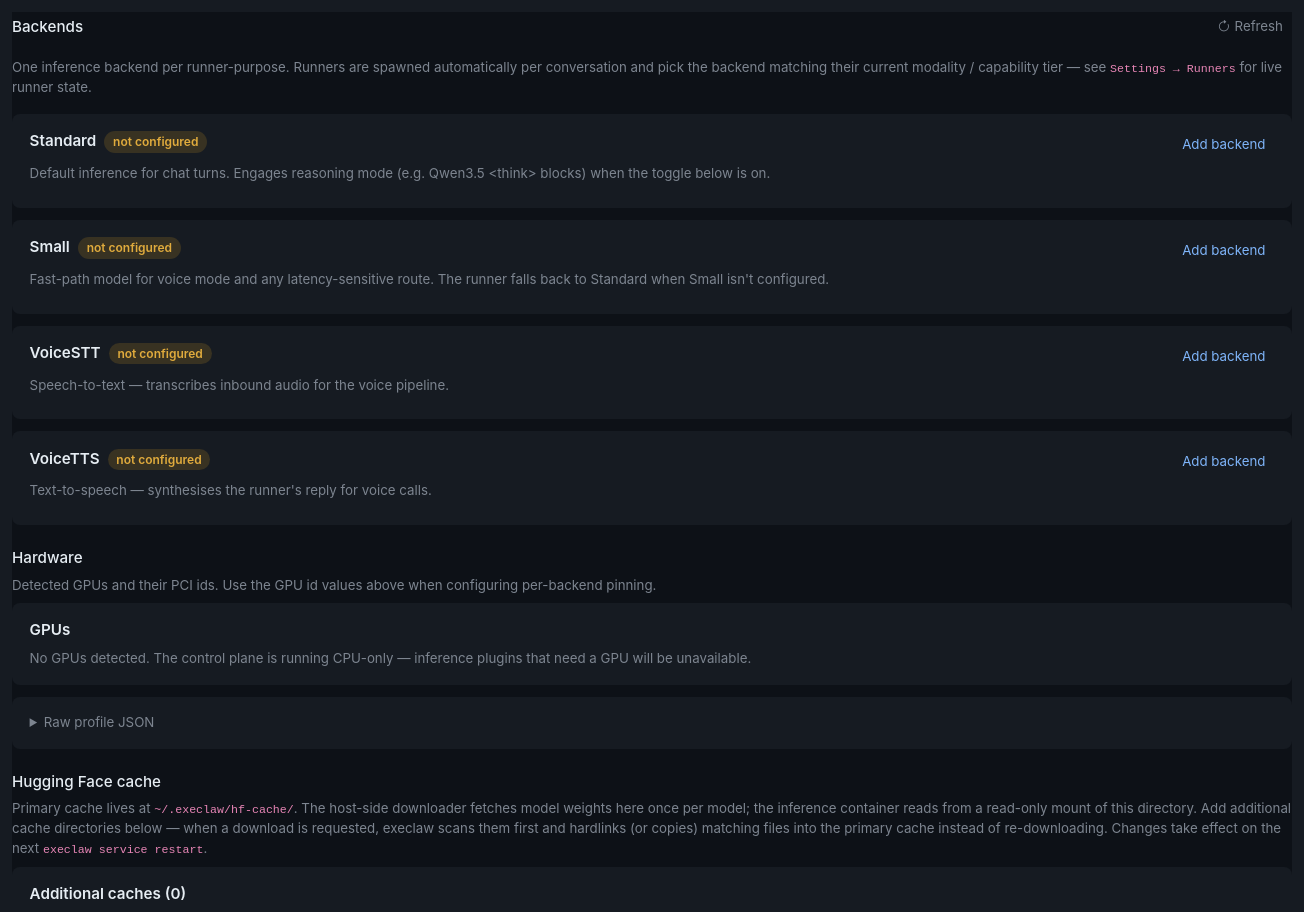
Test: BackendsPage › 'I'll type the JSON' skip button shows the raw form
Expected: the number of elements with test id "backend-row" is 4, [12,114,1292,208]; [12,220,1292,314]; [12,326,1292,420]; [12,431,1292,525]
Click the 1st button with test id "backend-edit" at (1224, 145), box [1173,130,1274,160]
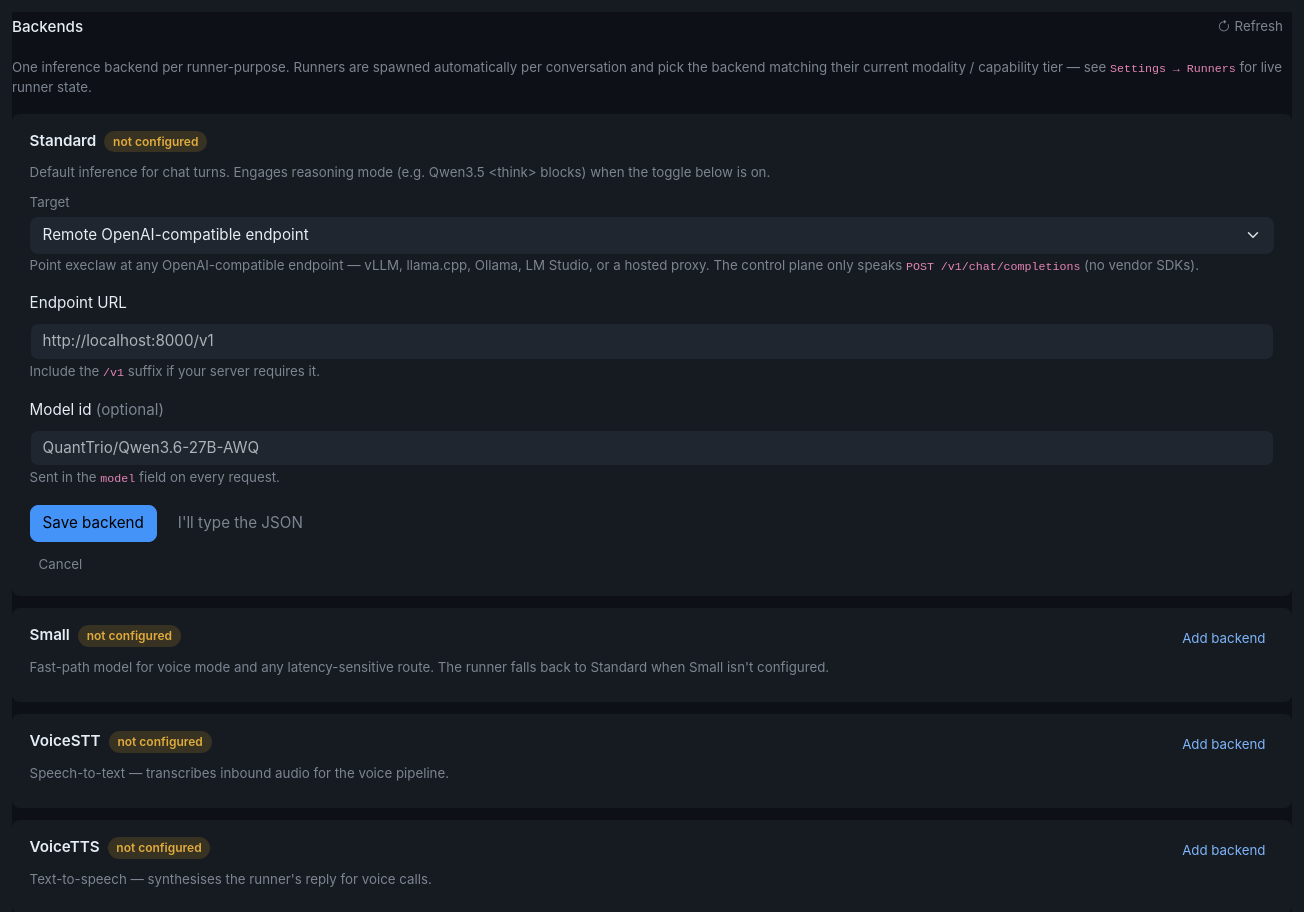
Result: the element with test id "backends-wizard-Standard-form" is shown at [30,191,1274,542]
Click the button with test id "backends-wizard-Standard-skip" at (240, 524), box [165,505,316,542]
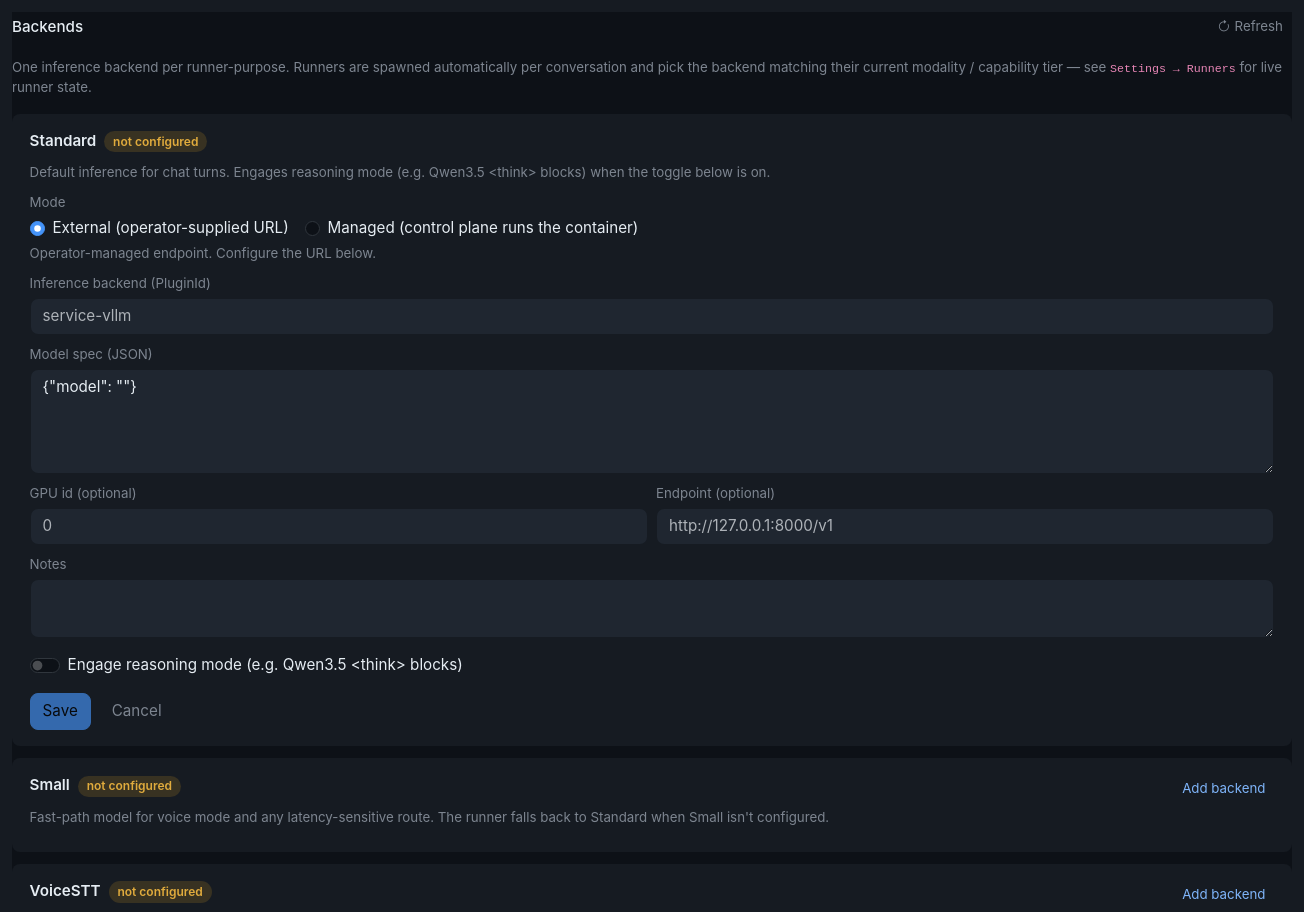
Result: the element with test id "backend-form" is shown at [30,191,1274,730]
Result: the element with test id "backends-wizard-Standard-form" is gone
